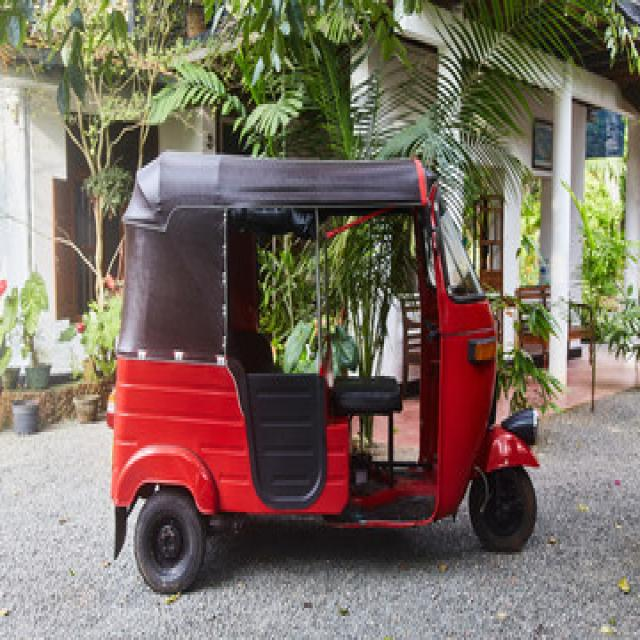three wheeler: (108, 152, 537, 592)
